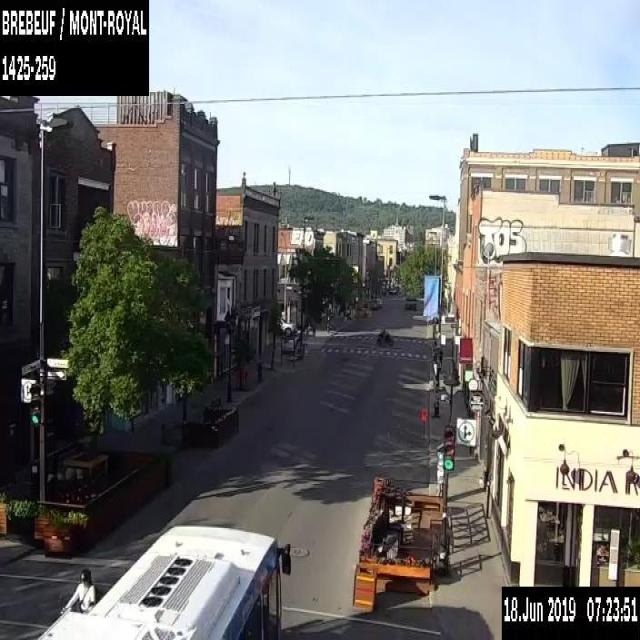bus: (35, 521, 291, 639)
construction: (420, 409, 428, 442)
cyclist: (58, 569, 104, 617)
vehicle: (278, 314, 296, 335), (375, 326, 392, 346), (404, 296, 416, 308)
